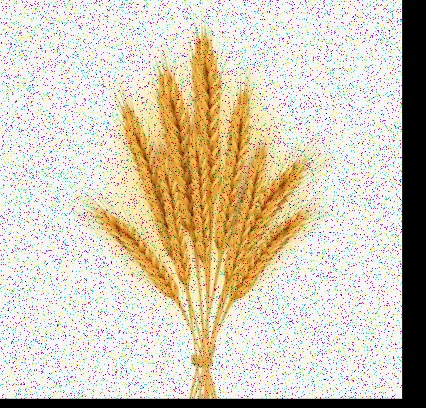wheat: (118, 92, 189, 294), (232, 142, 323, 290), (71, 192, 180, 306), (153, 50, 203, 270), (180, 30, 221, 272), (210, 77, 252, 264), (224, 135, 268, 274)
